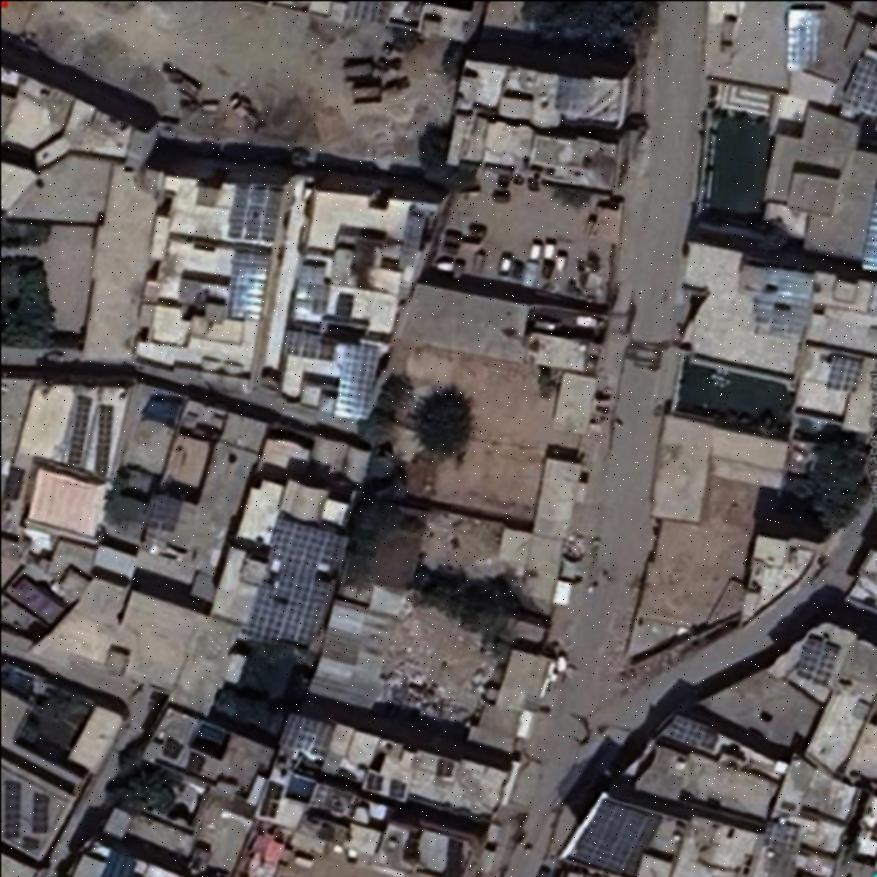Solarpanel: (246, 514, 345, 645), (570, 802, 664, 876), (330, 343, 378, 418), (228, 183, 278, 240), (279, 712, 335, 759), (229, 249, 266, 318), (839, 55, 876, 114), (786, 5, 819, 71), (796, 637, 837, 686), (666, 715, 719, 750), (68, 397, 87, 470), (828, 354, 861, 392), (862, 185, 876, 269), (282, 328, 322, 357), (96, 406, 110, 477), (4, 781, 18, 838), (259, 780, 280, 816), (33, 794, 45, 832)
